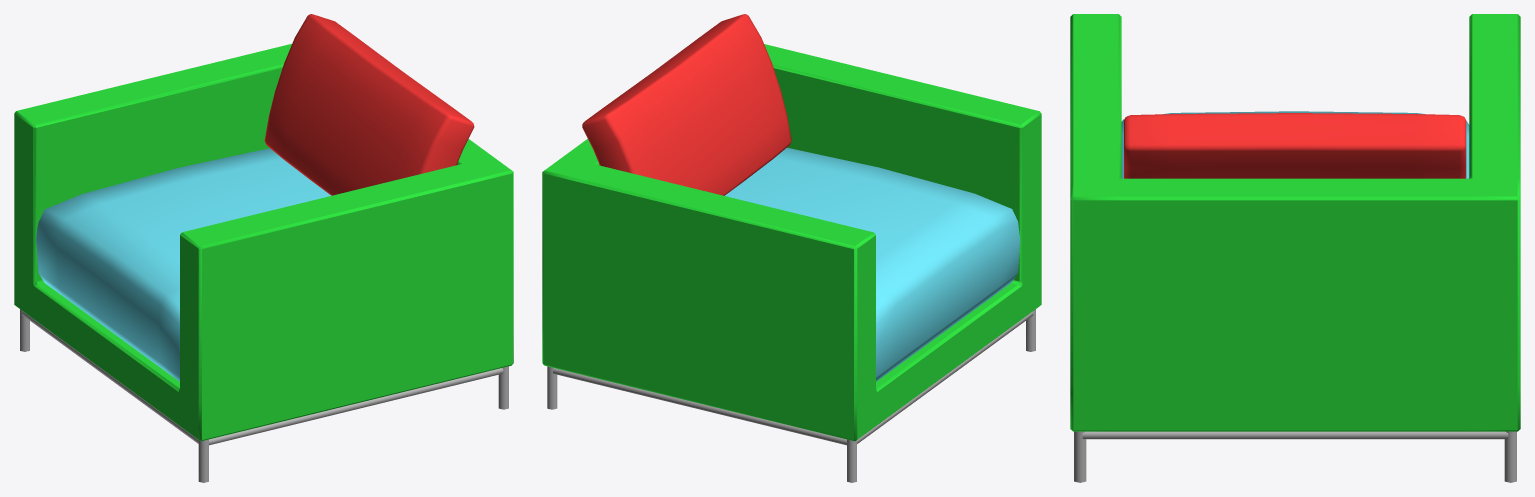
File: chair_3.FBX
3 views of the same model, side by side, from view 1: azimuth 30°, elevation 25°; view 2: azimuth 150°, elevation 25°; view 3: azimuth 270°, elevation 25° (orthographic). The views are drawn at different scales.
Parts seen in each view (by area): view 1: chair_3; view 2: chair_3; view 3: chair_3.
Part boxes in pixels (<box>): chair_3: <box>14,14,513,482</box>; chair_3: <box>542,14,1041,482</box>; chair_3: <box>1070,14,1520,482</box>.
Bounding box in the file's own units: 0.7494 × 0.6504 × 0.7706.
